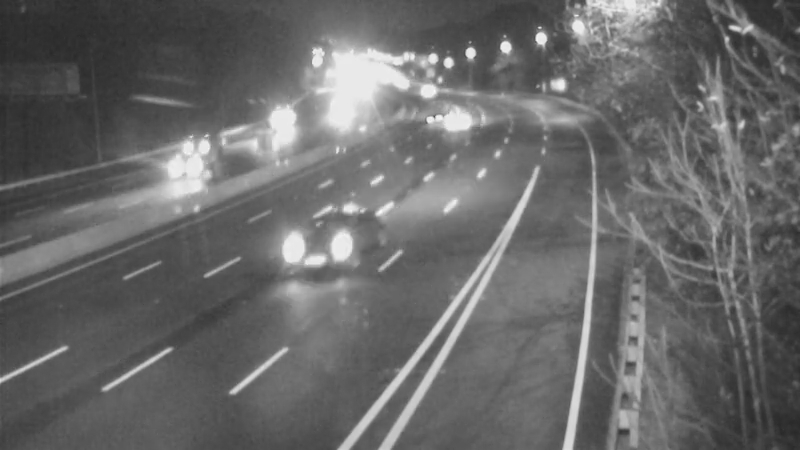vehicle: (272, 205, 352, 285), (141, 127, 221, 207), (402, 77, 452, 127), (429, 97, 479, 147), (169, 120, 219, 170), (259, 107, 309, 157), (255, 86, 305, 136), (313, 86, 363, 136)
